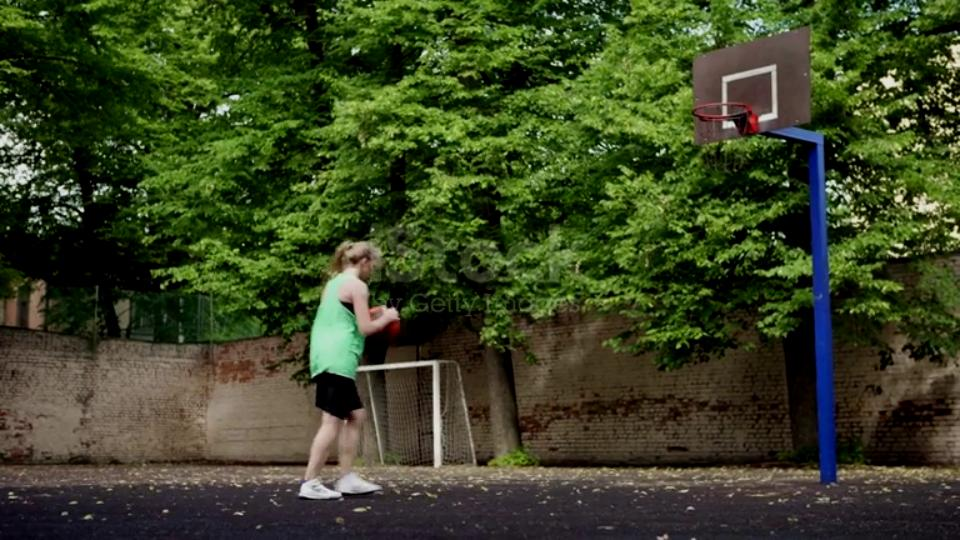hoop: (690, 100, 754, 122)
